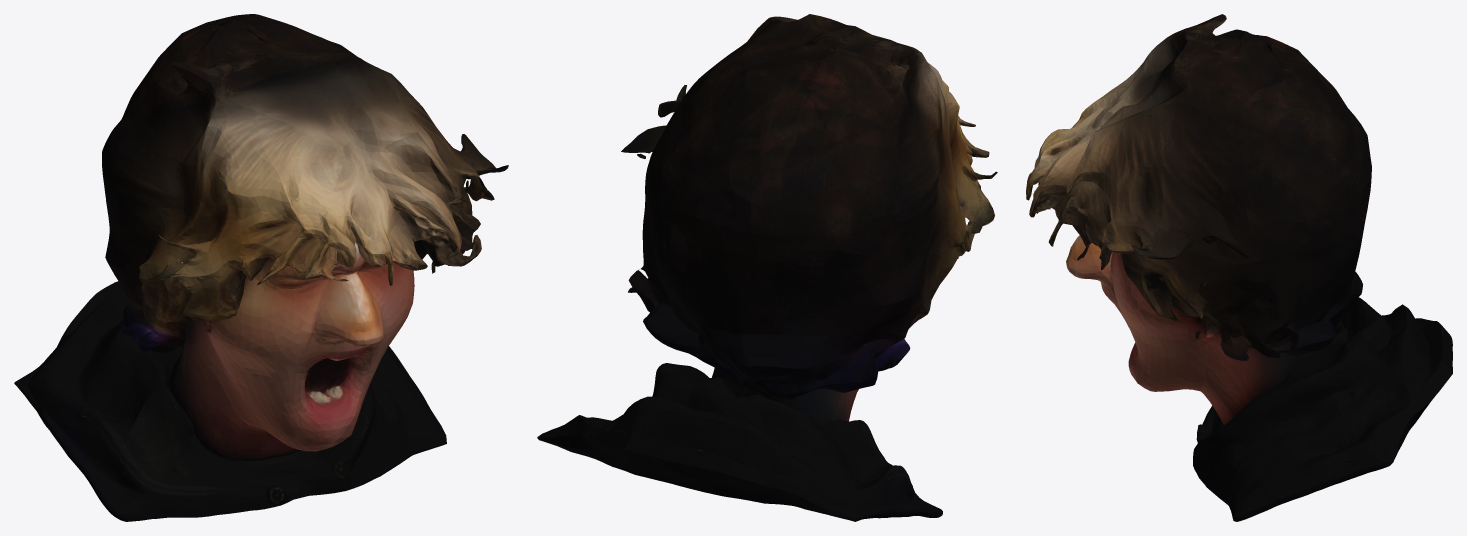
Rendered from vetle.glb.
3 renders of one model, left to right at view 1: azimuth 30°, elevation 25°; view 2: azimuth 150°, elevation 25°; view 3: azimuth 270°, elevation 25°, orthographic. The views are drawn at different scales.
Visible parts, largest first — view 1: world; view 2: world; view 3: world.
Boxes of the visible parts, left/top/right/bottom form: world: left=14, top=14, right=508, bottom=521; world: left=537, top=14, right=997, bottom=521; world: left=1026, top=14, right=1452, bottom=521.
Size of the model in its own units: 0.7777 by 0.9984 by 0.9702.
1 material, 1 textured.
